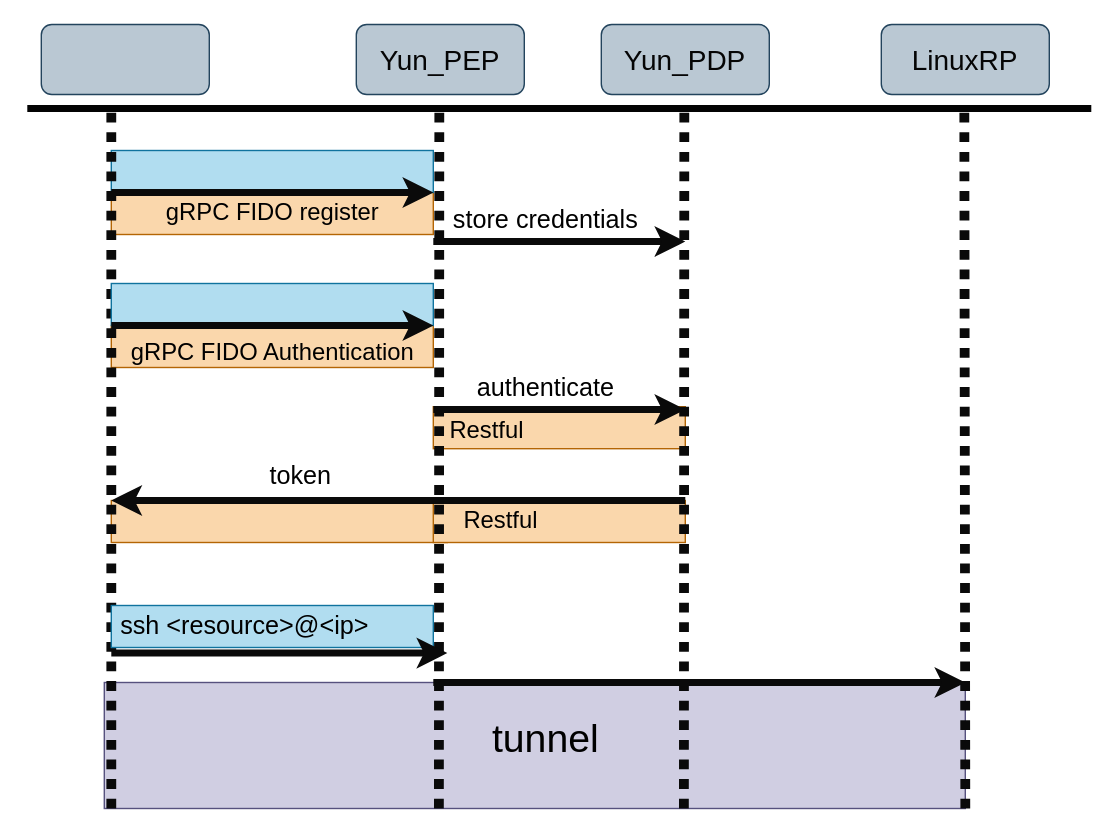
This 1120x839 diagram has some shape labels left out. Each missing label, with the centre of its shape:
"gRPC" belongs at pixel 278 520.
"login --pep --user" belongs at pixel 271 304.
"register --pep --user" belongs at pixel 271 170.
"yunagent" belongs at pixel 124 58.
